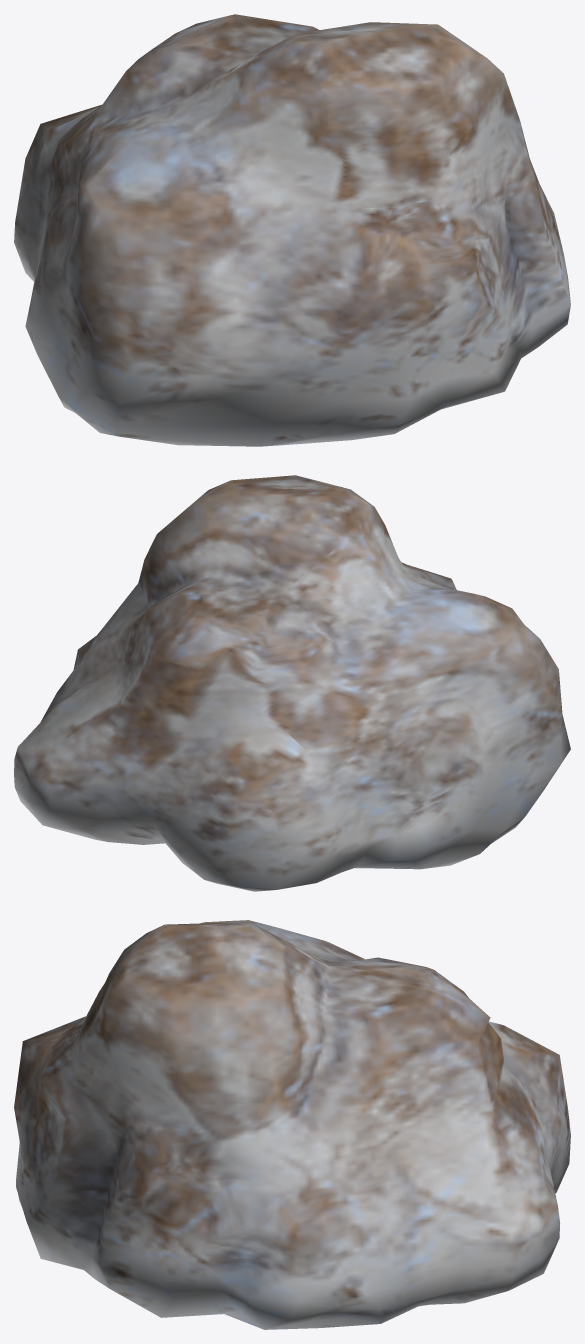
The model's file is sb_obj_nature006_Stone02a.fbx.
The picture shows the model from 3 angles, top to bottom: view 1: azimuth 30°, elevation 25°; view 2: azimuth 150°, elevation 25°; view 3: azimuth 270°, elevation 25°; orthographic projection. The views are drawn at different scales.
Parts seen in each view (by area): view 1: sb_obj_nature006_Stone02a; view 2: sb_obj_nature006_Stone02a; view 3: sb_obj_nature006_Stone02a.
Part boxes in pixels (left/top/right/bottom): sb_obj_nature006_Stone02a: left=14, top=14, right=570, bottom=446; sb_obj_nature006_Stone02a: left=14, top=475, right=570, bottom=891; sb_obj_nature006_Stone02a: left=14, top=920, right=570, bottom=1329.
Bounding box in the file's own units: 1.03 × 0.6464 × 0.997.
